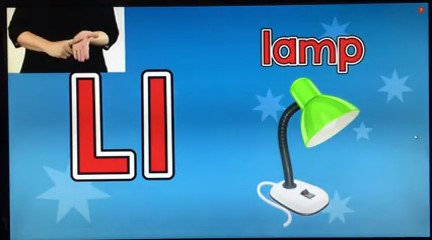L: (43, 16, 116, 66)
